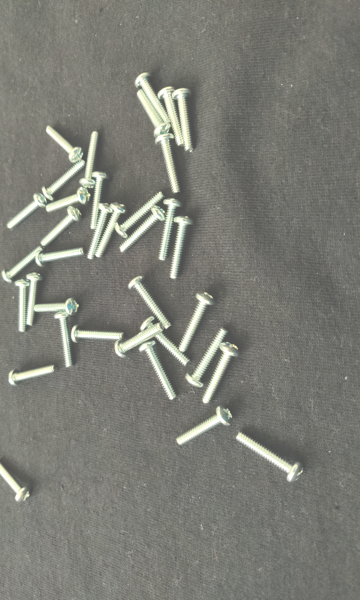longscrew: (236, 432, 306, 484), (185, 327, 230, 389), (140, 316, 191, 368), (128, 275, 173, 331), (202, 342, 241, 405), (115, 191, 165, 240), (139, 340, 178, 401), (119, 206, 167, 255), (178, 291, 215, 354), (176, 406, 234, 446), (134, 71, 171, 124), (42, 159, 87, 202), (136, 88, 172, 139), (96, 202, 128, 259), (115, 323, 164, 359), (40, 207, 83, 248), (1, 245, 46, 284), (158, 85, 185, 147), (169, 214, 194, 280), (155, 132, 181, 194), (44, 125, 85, 164), (157, 198, 182, 261), (87, 203, 114, 261), (6, 194, 49, 229), (0, 460, 33, 504), (172, 87, 194, 153), (78, 131, 101, 189), (8, 363, 59, 387), (45, 188, 91, 214), (90, 171, 110, 230), (54, 311, 74, 369), (71, 324, 126, 345), (35, 247, 86, 269), (25, 272, 44, 327), (14, 279, 33, 333), (34, 298, 80, 317)
